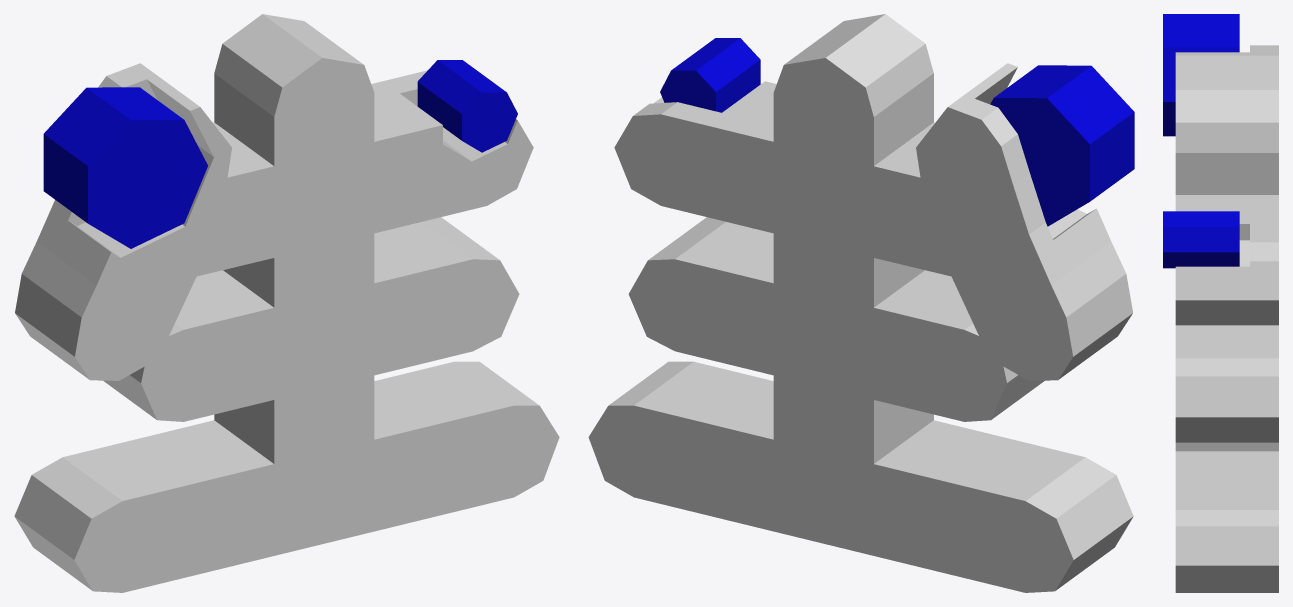
The model's file is Ch_Lite_China_生_01.fbx.
The picture shows the model from 3 angles, left to right: view 1: azimuth 30°, elevation 25°; view 2: azimuth 150°, elevation 25°; view 3: azimuth 270°, elevation 25°; orthographic projection. The views are drawn at different scales.
Parts seen in each view (by area): view 1: sphere1; view 2: sphere1; view 3: sphere1.
Part boxes in pixels (x1,y1,x2,y2): sphere1: (14, 14, 559, 592); sphere1: (588, 14, 1134, 592); sphere1: (1163, 14, 1278, 592).
Bounding box in the file's own units: 0.9341 × 0.8945 × 0.2242.
